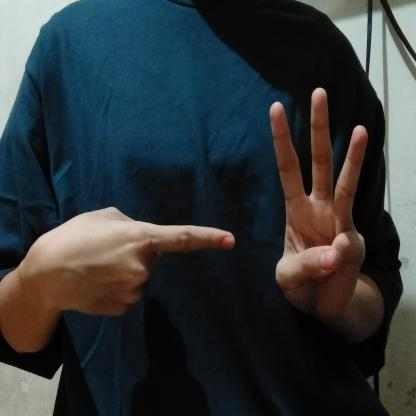why: (29, 83, 391, 338)
